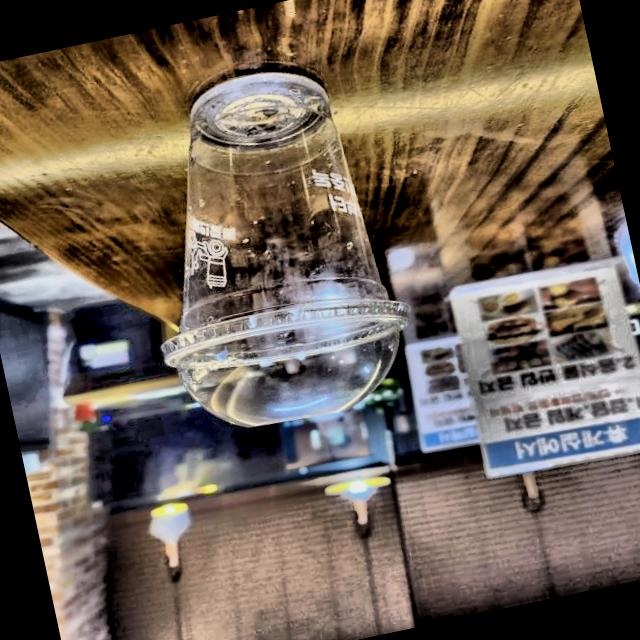plastic cup: (86, 24, 451, 477)
